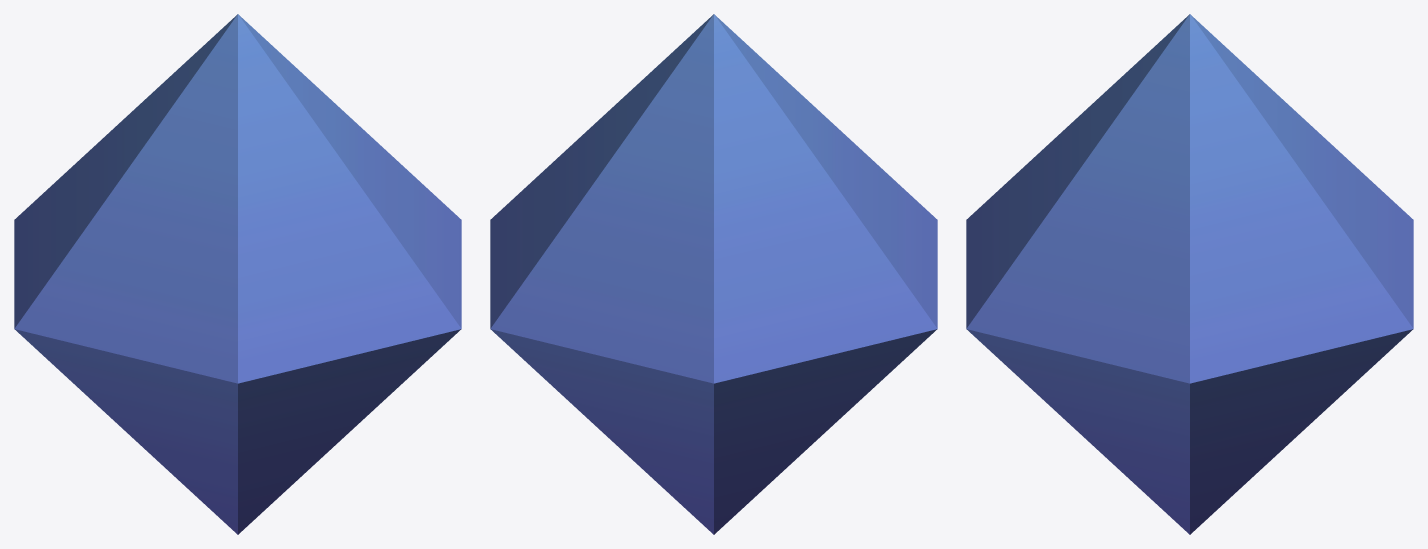
Rendered from pu-magnet.glb.
3 views of the same model, side by side, from view 1: azimuth 30°, elevation 25°; view 2: azimuth 150°, elevation 25°; view 3: azimuth 270°, elevation 25° (orthographic).
Parts seen in each view (by area): view 1: jewel; view 2: jewel; view 3: jewel.
Boxes of the visible parts, x1,y1,x2,y2 form: jewel: (14, 14, 461, 534); jewel: (490, 14, 937, 534); jewel: (966, 14, 1413, 534).
Size of the model in its own units: 0.3329 by 0.3705 by 0.2883.
Materials: 1 (1 with a texture image).
